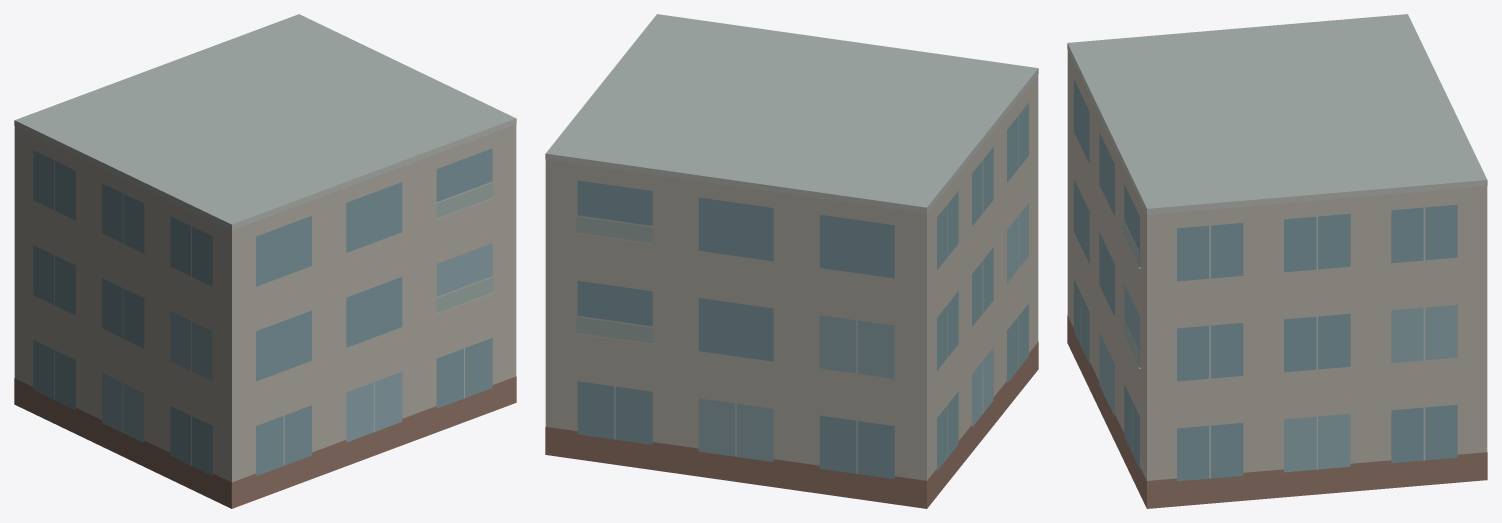
File: survey-upis-32889389.glb
3 renders of one model, left to right at view 1: azimuth 30°, elevation 25°; view 2: azimuth 150°, elevation 25°; view 3: azimuth 270°, elevation 25°, orthographic. The views are drawn at different scales.
Parts seen in each view (by area): view 1: survey-upis-32889389.tmp; view 2: survey-upis-32889389.tmp; view 3: survey-upis-32889389.tmp.
Part boxes in pixels (left/top/right/bottom): survey-upis-32889389.tmp: left=14, top=14, right=516, bottom=508; survey-upis-32889389.tmp: left=545, top=14, right=1038, bottom=508; survey-upis-32889389.tmp: left=1067, top=14, right=1487, bottom=508.
Bounding box in the file's own units: 16.72 × 12 × 15.23.
